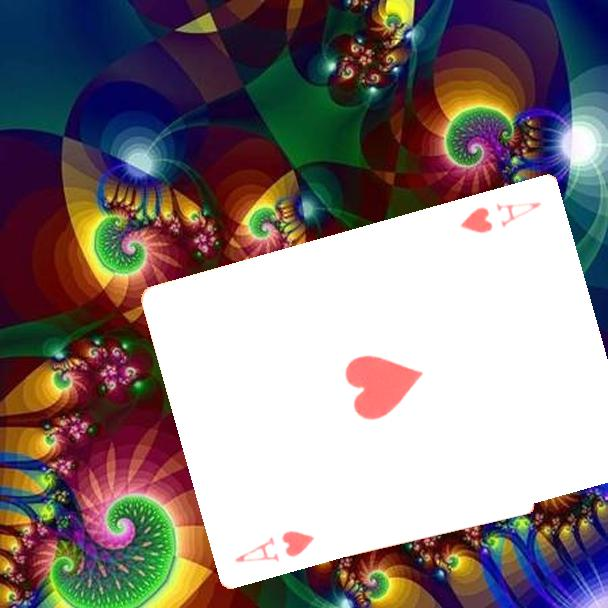h01: (457, 197, 545, 236), (231, 526, 318, 565)
